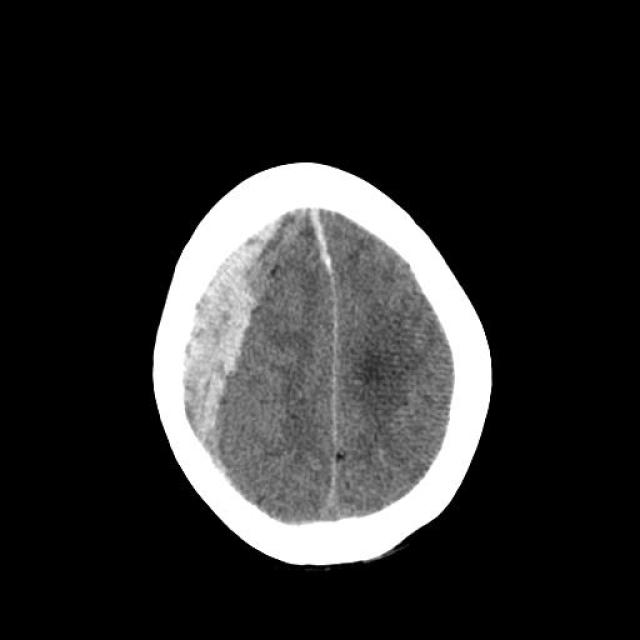Subdural: (157, 215, 295, 477), (306, 206, 355, 299)
